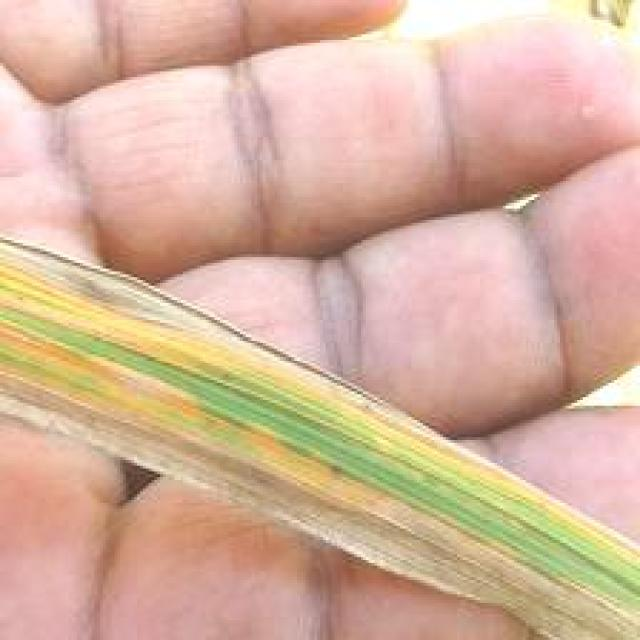Bacterial_Leaf_Blight: (6, 232, 511, 594)
